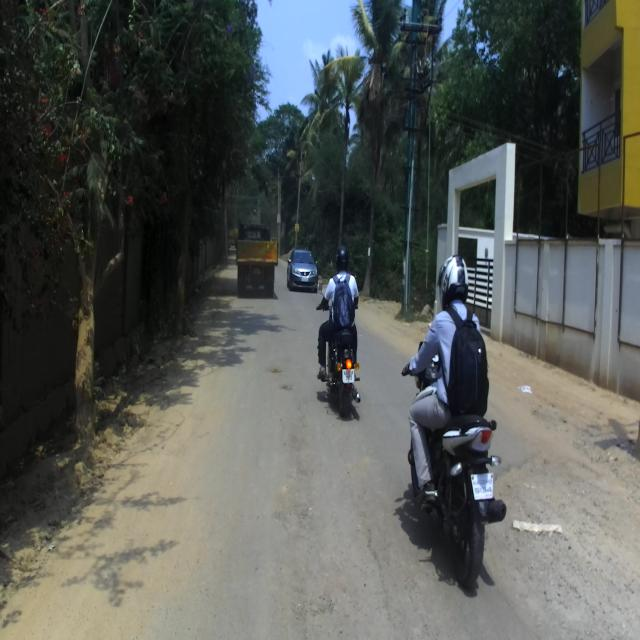motorcycle ahead at: (403, 414, 512, 593), (318, 335, 360, 415)
tree ahead at: (60, 218, 112, 453)
truck ahead at: (236, 216, 283, 297)
